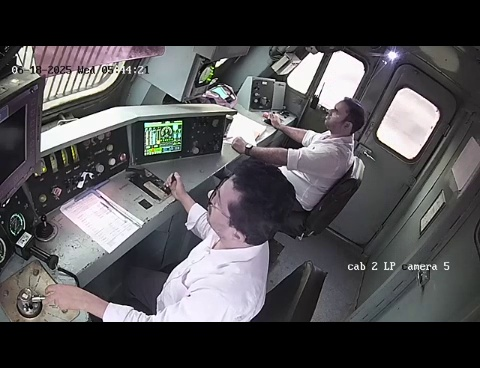brake_applied: (1, 254, 111, 322)
horn_inactive: (27, 213, 64, 248)
